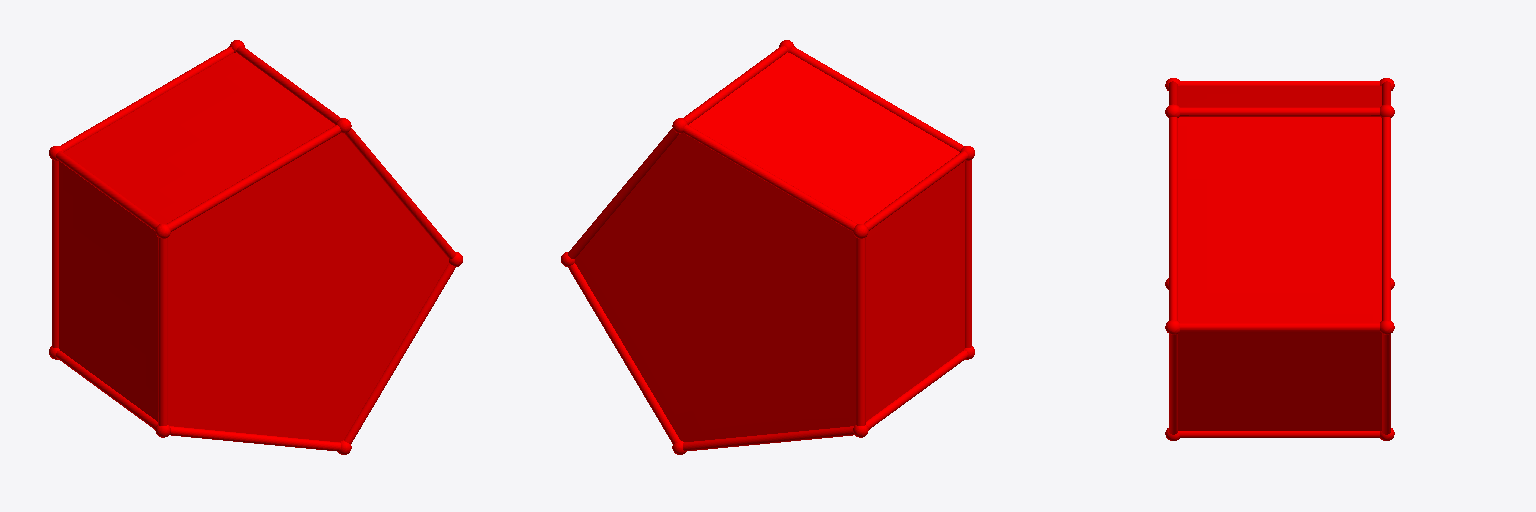
The model's file is pent_red.obj.
The picture shows the model from 3 angles: view 1: azimuth 30°, elevation 25°; view 2: azimuth 150°, elevation 25°; view 3: azimuth 270°, elevation 25°; orthographic projection.
Parts seen in each view (by area): view 1: pent; view 2: pent; view 3: pent.
Boxes of the visible parts, x1=… form: pent: x1=49, y1=40, x2=462, y2=454; pent: x1=561, y1=40, x2=974, y2=454; pent: x1=1165, y1=78, x2=1394, y2=440.
Bounding box in the file's own units: 8.57 × 9 × 5.58.